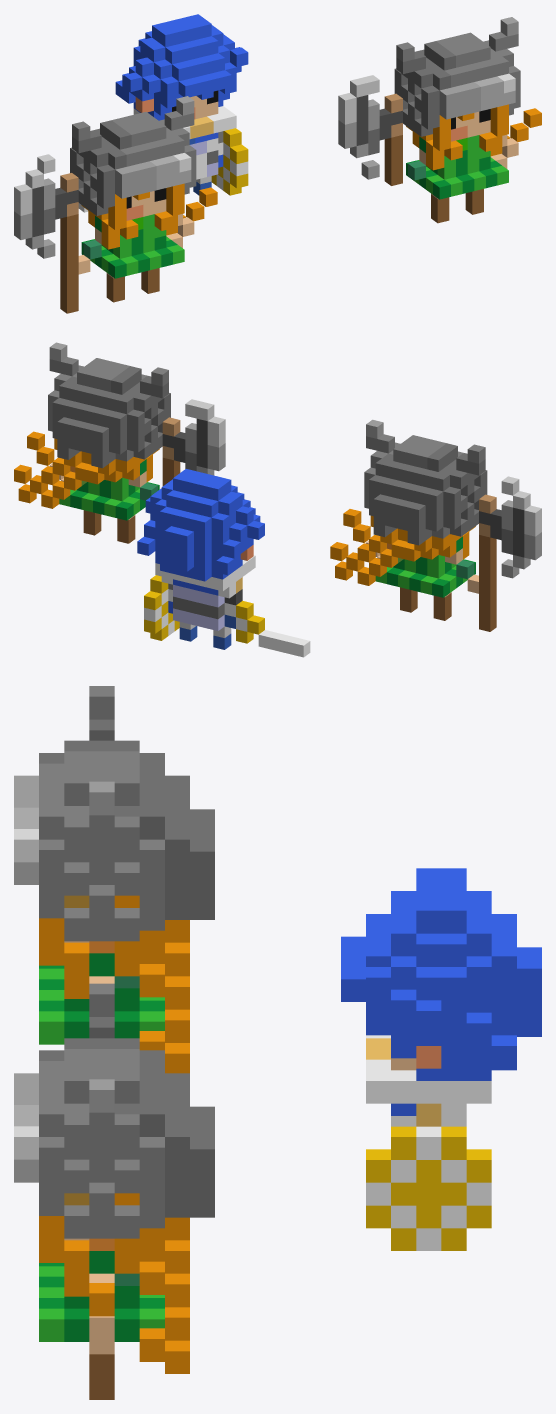
The picture shows the model from 3 angles, top to bottom: view 1: azimuth 30°, elevation 25°; view 2: azimuth 150°, elevation 25°; view 3: azimuth 270°, elevation 25°; orthographic projection. The views are drawn at different scales.
Parts seen in each view (by area): view 1: model.vox; view 2: model.vox; view 3: model.vox.
Part boxes in pixels (x1,y1,x2,y2): model.vox: [14, 14, 541, 313]; model.vox: [14, 342, 541, 657]; model.vox: [14, 686, 541, 1399].
Size of the model in its own units: 4.5 by 1.5 by 2.1.
Materials: 1 (1 with a texture image).
